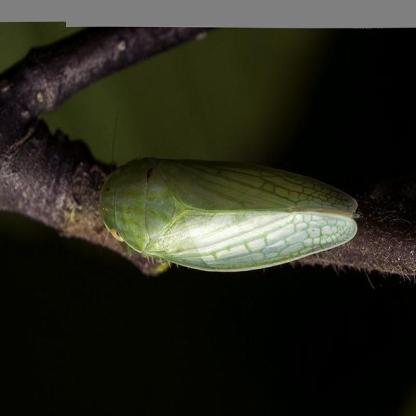green-leafhopper: (95, 151, 360, 273)
